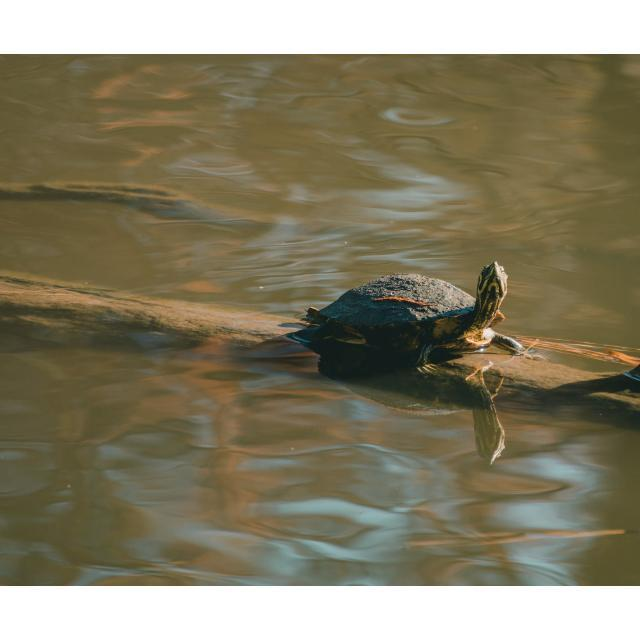turtle: (302, 260, 523, 378)
